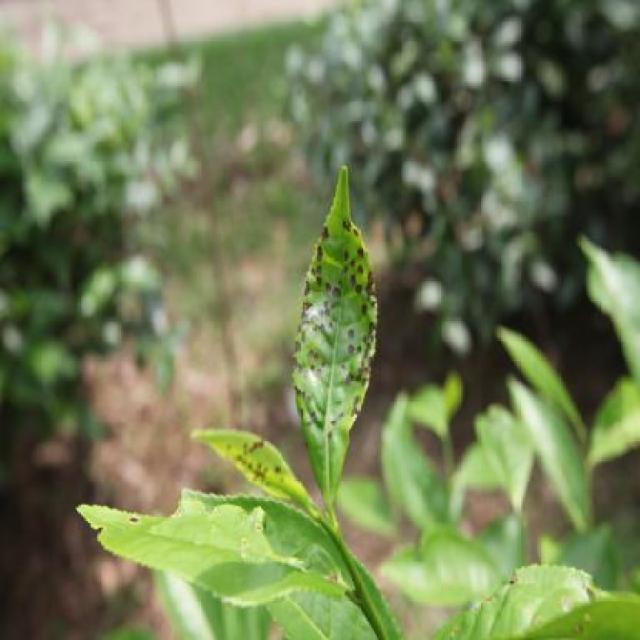Tea Mosquito bug infested leaf: (297, 183, 372, 515), (197, 418, 312, 511)
